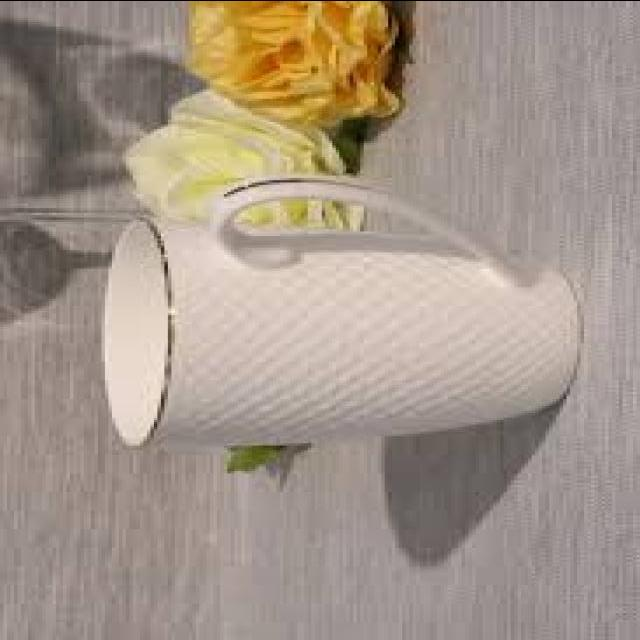Coffee Mug: (102, 180, 579, 446)
